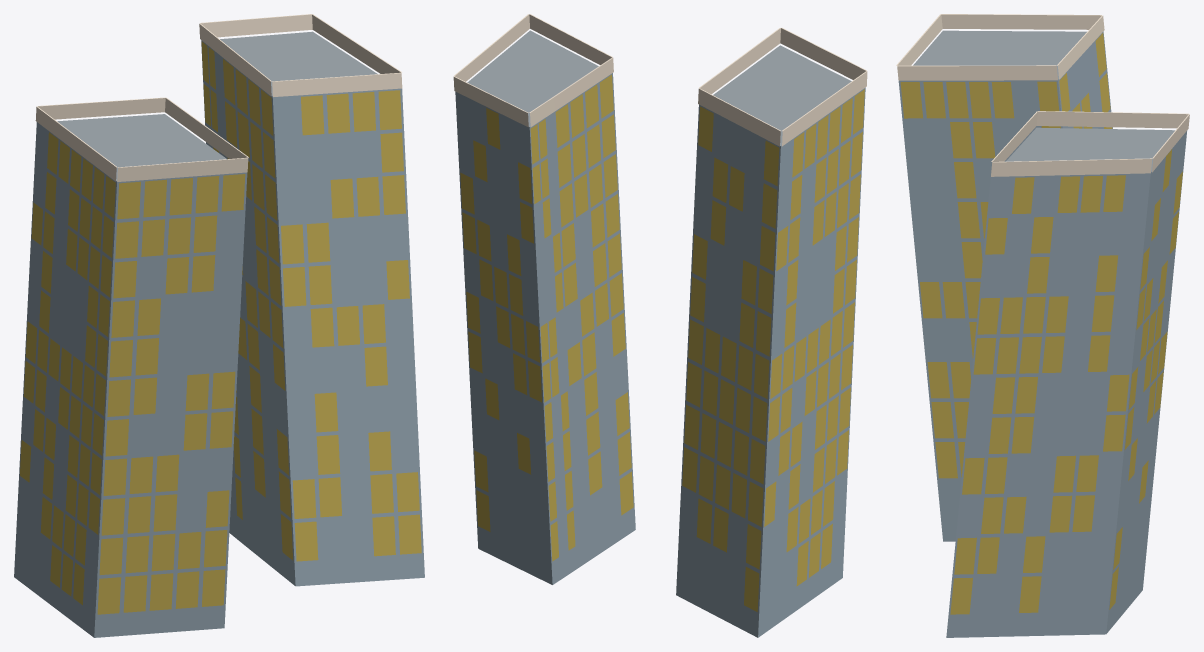
The model's file is lv-veer-towers.glb.
3 renders of one model, left to right at view 1: azimuth 30°, elevation 25°; view 2: azimuth 150°, elevation 25°; view 3: azimuth 270°, elevation 25°, orthographic. The views are drawn at different scales.
Parts seen in each view (by area): view 1: Veer Towers; view 2: Veer Towers; view 3: Veer Towers.
Boxes of the visible parts, x1,y1,x2,y2 form: Veer Towers: [14, 14, 424, 637]; Veer Towers: [453, 14, 867, 637]; Veer Towers: [896, 14, 1189, 637].
Bounding box in the file's own units: 88.3 × 132 × 73.86.
